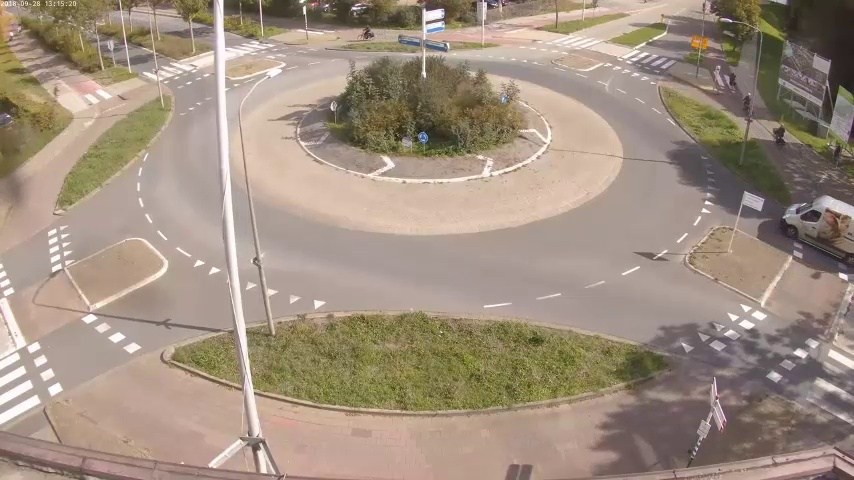bicycle: (359, 22, 374, 44)
car: (785, 192, 852, 263)
